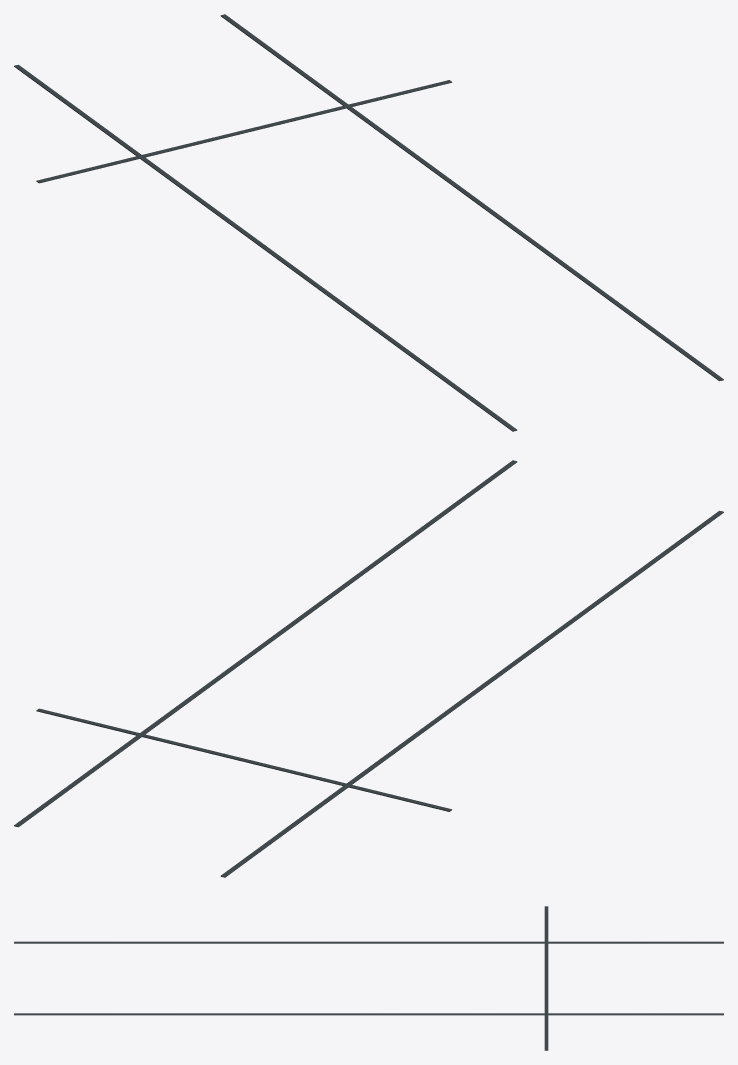
File: 11-right-toy-leg-course-1-3.fbx
The picture shows the model from 3 angles, top to bottom: view 1: azimuth 30°, elevation 25°; view 2: azimuth 150°, elevation 25°; view 3: azimuth 270°, elevation 25°; orthographic projection. The views are drawn at different scales.
Visible parts, largest first — view 1: right-toy-leg-course-1-3; view 2: right-toy-leg-course-1-3; view 3: right-toy-leg-course-1-3.
Part boxes in pixels (x1,y1,x2,y2): right-toy-leg-course-1-3: [14, 14, 723, 431]; right-toy-leg-course-1-3: [14, 460, 723, 877]; right-toy-leg-course-1-3: [14, 906, 723, 1050].
Bounding box in the file's own units: 4400 × 10 × 9200.
Materials: 1 (1 with a texture image).
